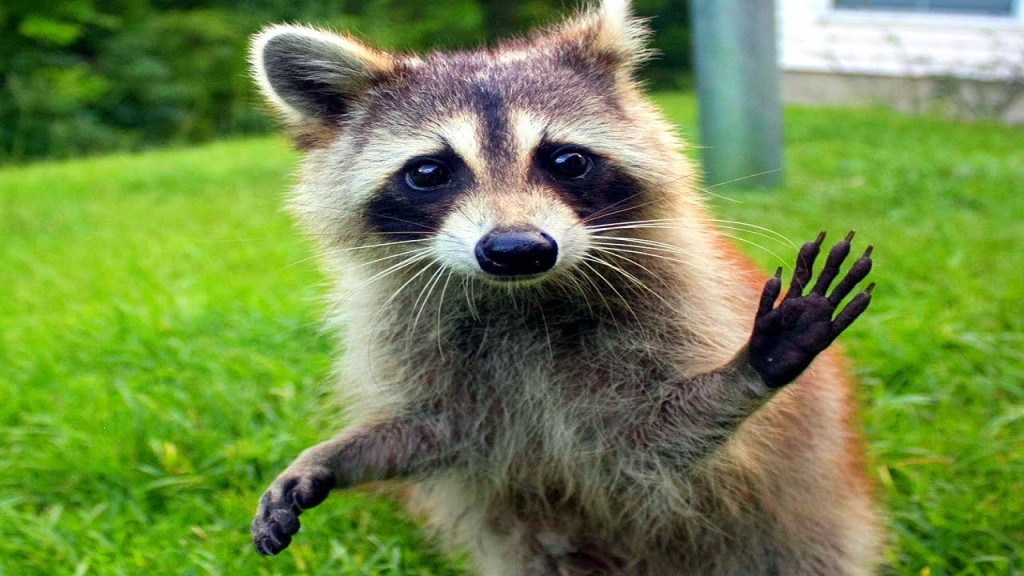raccoon: (235, 4, 908, 571)
